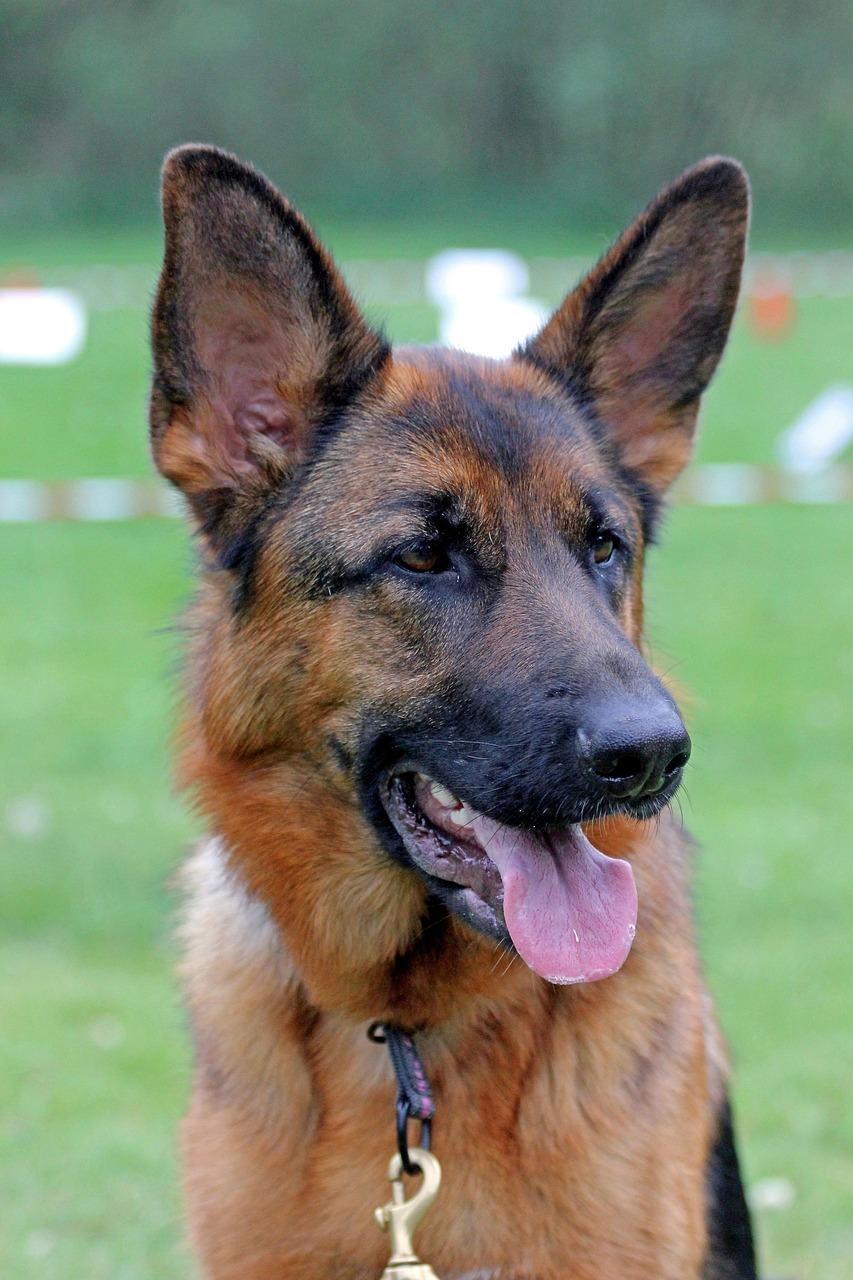german_shepherd: (148, 150, 766, 975)
